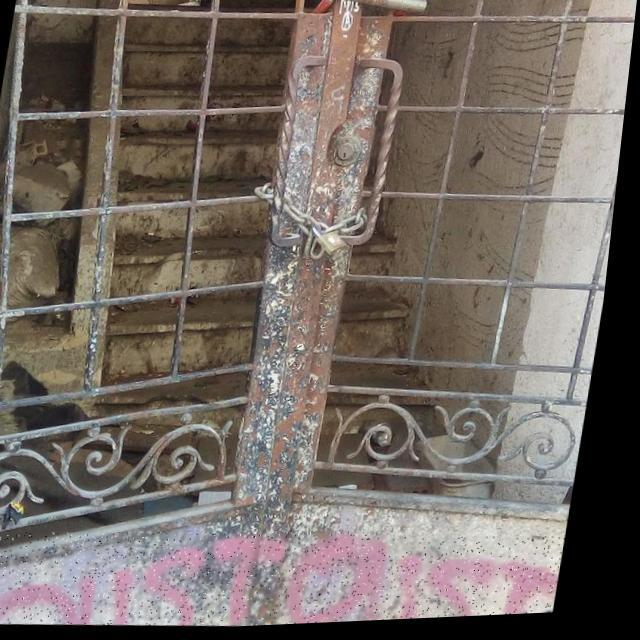-: (0, 511, 580, 639)
